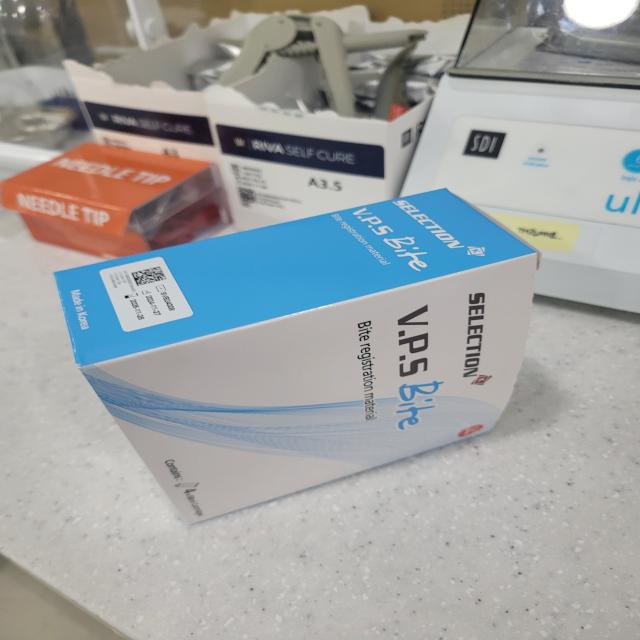impression: (37, 185, 561, 527)
